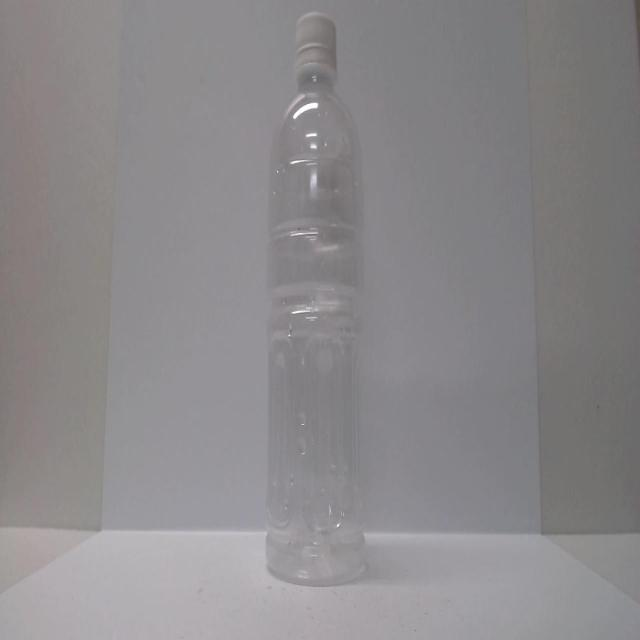bottle: (252, 3, 376, 590)
